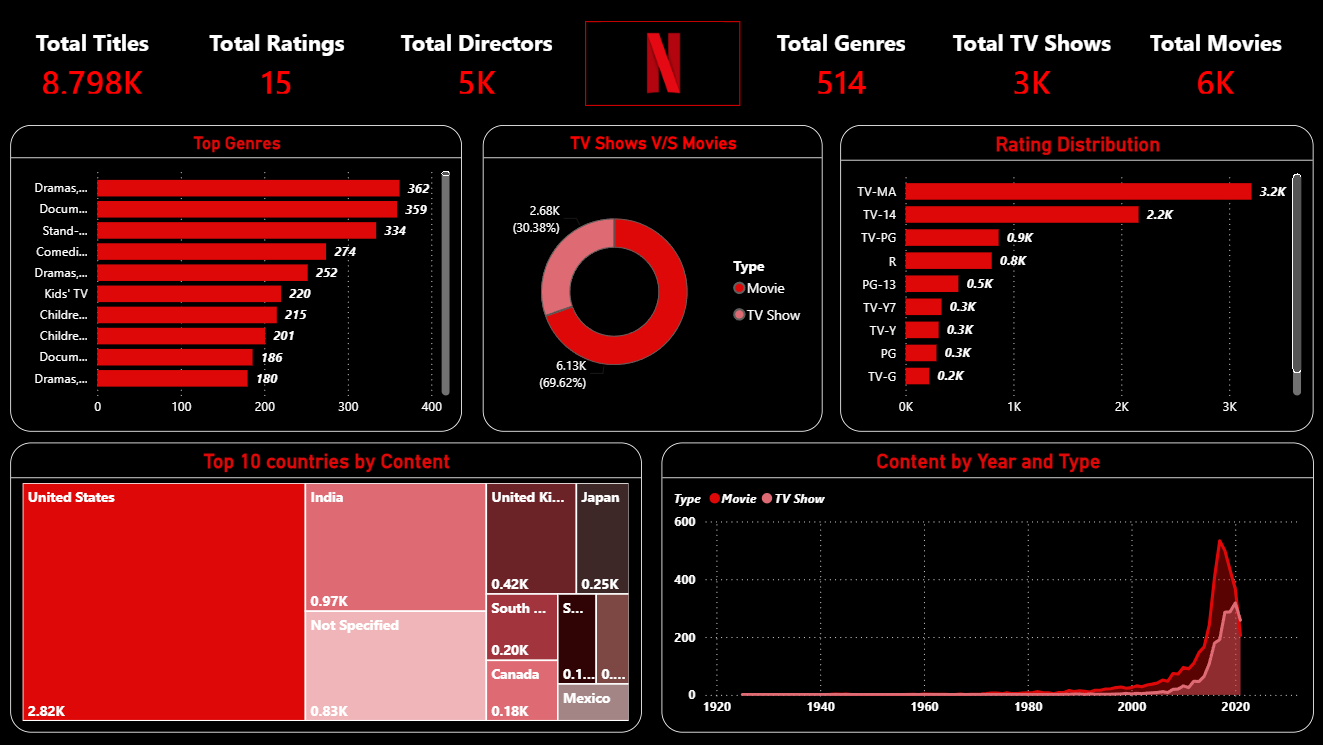

The dashboard page shown, as its layout file describes it:
{"tool":"powerbi","page":{"name":"Dashboard","canvas":[1280,720],"ordinal":5},"visuals":[{"type":"donutChart","title":"TV Shows V/S Movies ","fields":{"Y":["CountNonNull(netflix_titles_cleaned_1.Title)"],"Category":["netflix_titles_cleaned_1.Type"]},"box":[466.6,120.8,328,296.4],"z":0},{"type":"clusteredBarChart","title":"Rating Distribution","fields":{"Category":["netflix_titles_cleaned_1.Rating"],"Y":["netflix_titles_cleaned_1.Total Titles"]},"box":[812.4,120.8,456.9,296.4],"z":1000},{"type":"barChart","title":"Top Genres","fields":{"Category":["netflix_titles_cleaned_1.Listed_in"],"Y":["Count(netflix_titles_cleaned_1.Show_ID)"]},"box":[11,120.8,436.4,296.4],"z":2000},{"type":"areaChart","title":"Content by Year and Type","fields":{"Category":["netflix_titles_cleaned_1.Release_Year"],"Y":["Count(netflix_titles_cleaned_1.Show_ID)"],"Series":["netflix_titles_cleaned_1.Type"]},"box":[639.5,426.8,629.8,279.9],"z":3000},{"type":"treemap","title":"Top 10 countries by Content","fields":{"Group":["netflix_titles_cleaned_1.Country"],"Values":["Count(netflix_titles_cleaned_1.Show_ID)"]},"box":[11,426.8,609.3,279.9],"z":4000},{"type":"cardVisual","fields":{"Data":["Count(netflix_titles_cleaned_1.Title)"]},"box":[0,14.3,178.2,94.1],"z":5000},{"type":"cardVisual","fields":{"Data":["netflix_titles_cleaned_1.Total Directors"]},"box":[347.8,14.3,225.2,94.1],"z":6000},{"type":"cardVisual","fields":{"Data":["netflix_titles_cleaned_1.Total TV Shows"]},"box":[883.7,14.3,223.8,94.1],"z":7000},{"type":"cardVisual","fields":{"Data":["netflix_titles_cleaned_1.Total Movies"]},"box":[1077.6,14.3,192.4,94.1],"z":8000},{"type":"cardVisual","fields":{"Data":["Count(netflix_titles_cleaned_1.Rating)"]},"box":[155.4,14.3,223.8,94.1],"z":9000},{"type":"image","box":[565.9,20,149.7,81.2],"z":10000},{"type":"cardVisual","fields":{"Data":["Count(netflix_titles_cleaned_1.Listed_in)"]},"box":[718.4,14.3,188.2,94.1],"z":11000}]}

Visuals, with their boxes in screenshot pixels (x1, y1, x2, y2), scaled from the page's 1280x720 canvas onto the 1323x745 screenshot:
"TV Shows V/S Movies " donutChart: 482:125:821:432
"Rating Distribution" clusteredBarChart: 840:125:1312:432
"Top Genres" barChart: 11:125:462:432
"Content by Year and Type" areaChart: 661:442:1312:731
"Top 10 countries by Content" treemap: 11:442:641:731
cardVisual - Count(netflix_titles_cleaned_1.Title): 0:15:184:112
cardVisual - netflix_titles_cleaned_1.Total Directors: 359:15:592:112
cardVisual - netflix_titles_cleaned_1.Total TV Shows: 913:15:1145:112
cardVisual - netflix_titles_cleaned_1.Total Movies: 1114:15:1313:112
cardVisual - Count(netflix_titles_cleaned_1.Rating): 161:15:392:112
image: 585:21:740:105
cardVisual - Count(netflix_titles_cleaned_1.Listed_in): 743:15:937:112
